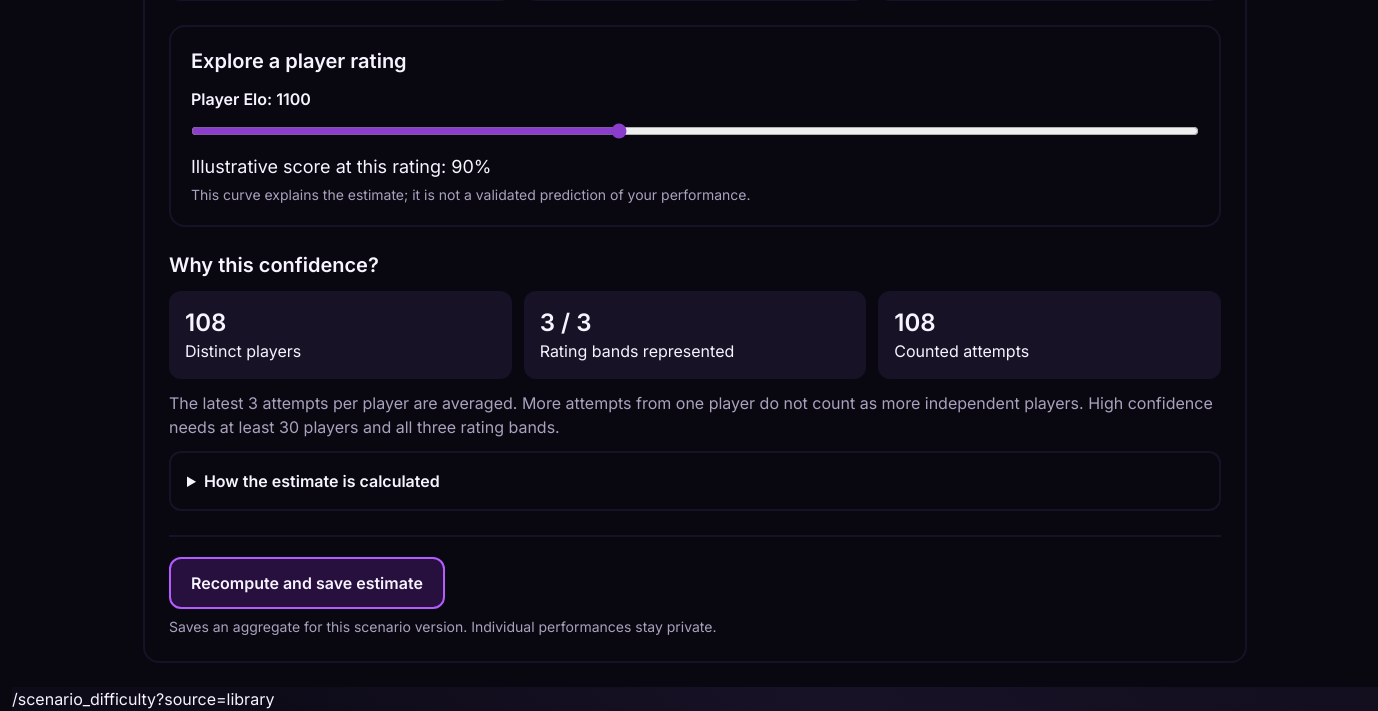
Scenario: scenario difficulty explorer › displays publication errors and permits a retry
(page scrolled)
Click the button "Recompute and save estimate" at (307, 583), box [169,557,445,609]
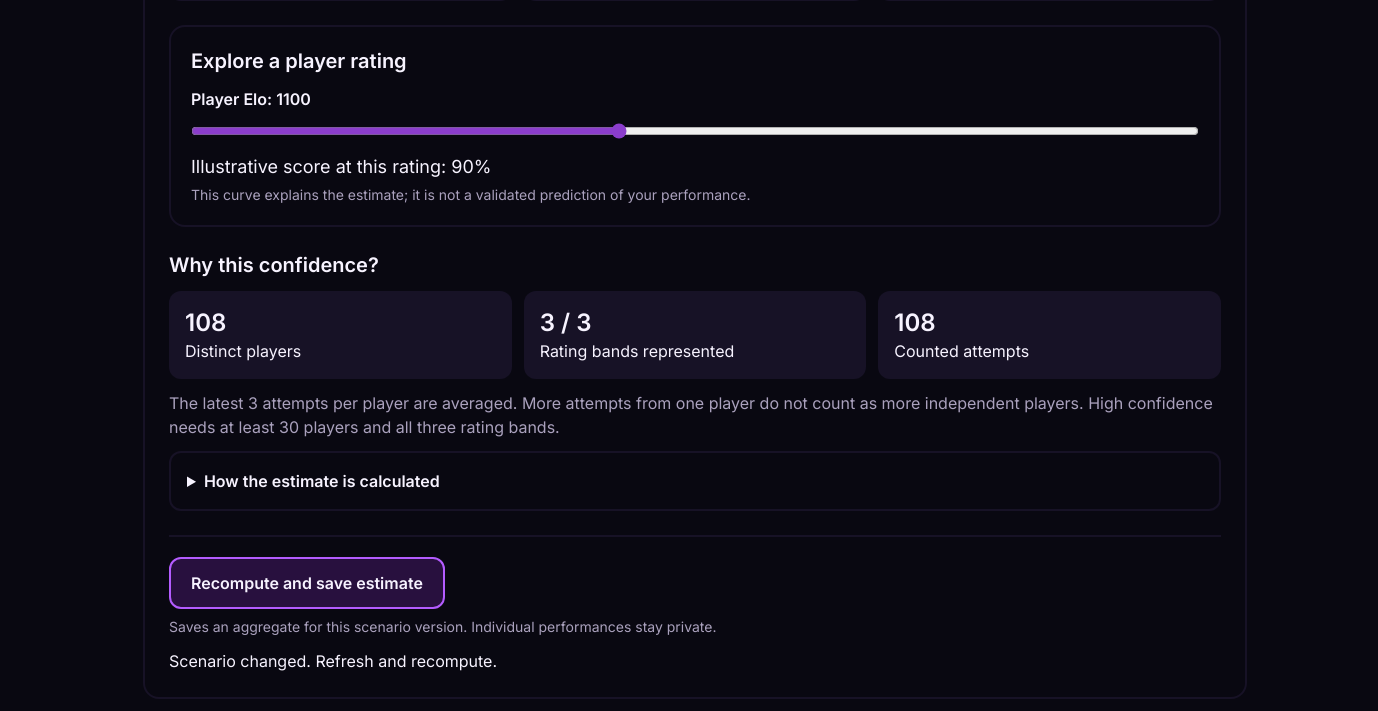
Check: the message shows "Scenario changed", box [169,651,497,671]
